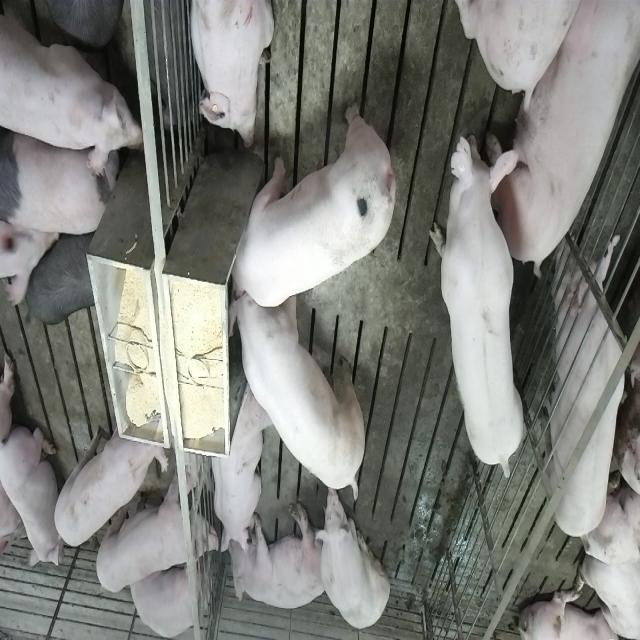Feeding: (220, 100, 392, 308), (232, 282, 368, 504)
Lateral_lying: (484, 5, 636, 278), (228, 502, 326, 611)
Sitting: (314, 484, 389, 632)
Standing: (433, 117, 527, 474), (539, 224, 640, 547), (2, 0, 144, 186), (52, 404, 167, 548), (96, 468, 218, 597), (3, 126, 115, 241), (24, 225, 100, 329)
Sternal_lying: (185, 0, 272, 148), (208, 379, 268, 555), (2, 418, 60, 568), (128, 554, 206, 638)
